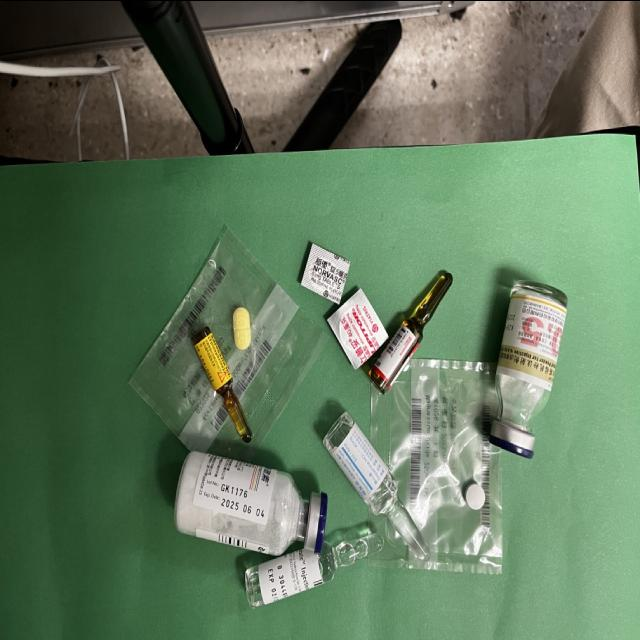Ampoules: (324, 411, 430, 559), (245, 533, 384, 609), (368, 271, 452, 393), (192, 326, 252, 441)
Vials: (174, 450, 327, 555), (490, 280, 567, 456)
